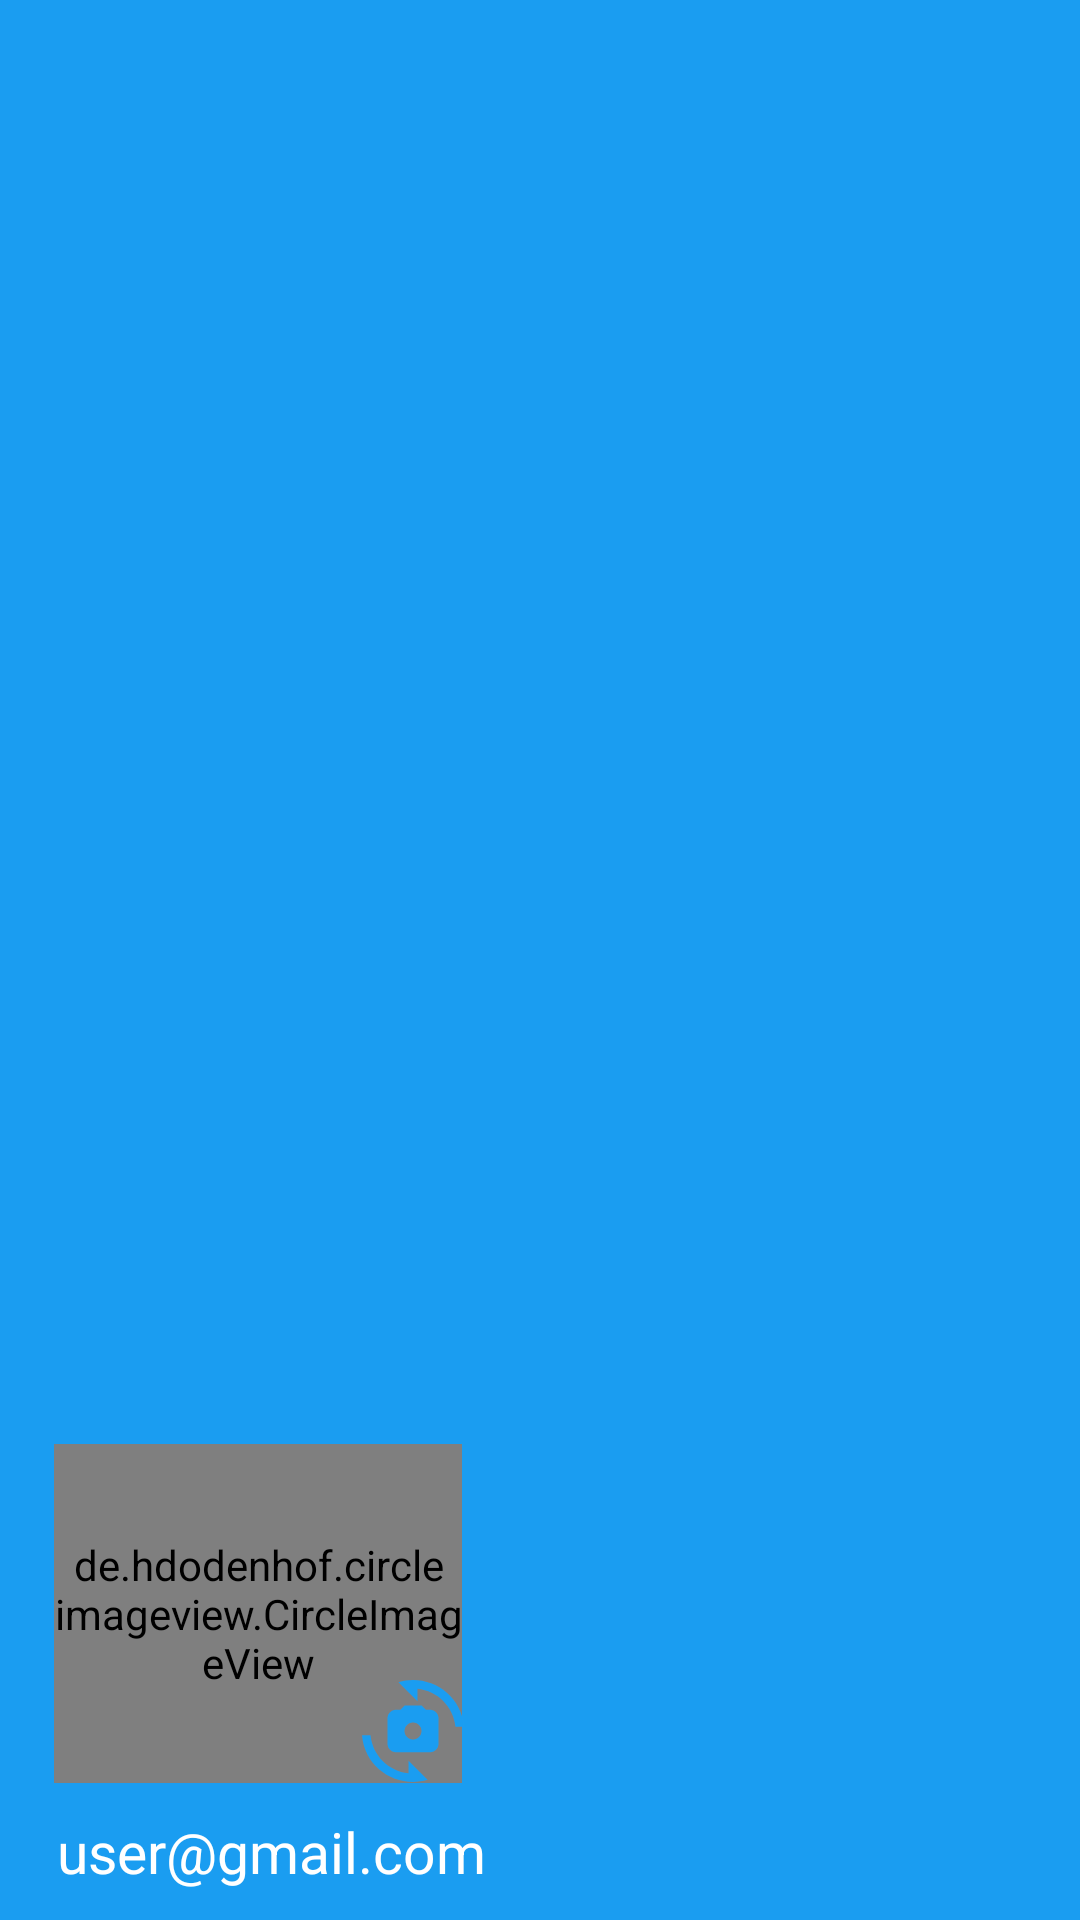

Where to tap for icons on this 1080x1920 app screen, as (x=x, y=y):
cameraswitch: (x=413, y=1730)
